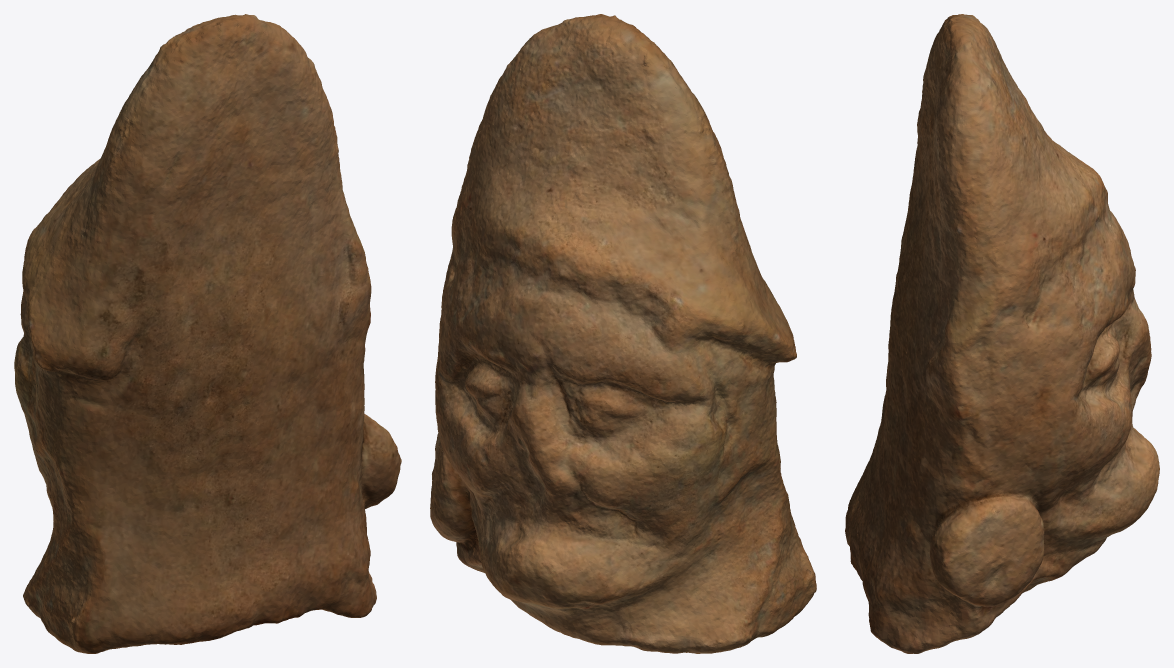
3 renders of one model, left to right at view 1: azimuth 30°, elevation 25°; view 2: azimuth 150°, elevation 25°; view 3: azimuth 270°, elevation 25°, orthographic. The views are drawn at different scales.
Parts seen in each view (by area): view 1: Mesh_0.021; view 2: Mesh_0.021; view 3: Mesh_0.021.
Boxes of the visible parts, x1,y1,x2,y2 form: Mesh_0.021: (14, 14, 401, 653); Mesh_0.021: (430, 14, 816, 653); Mesh_0.021: (845, 14, 1159, 653).
Size of the model in its own units: 0.0729 by 0.116 by 0.0574.
1 material, 1 textured.
